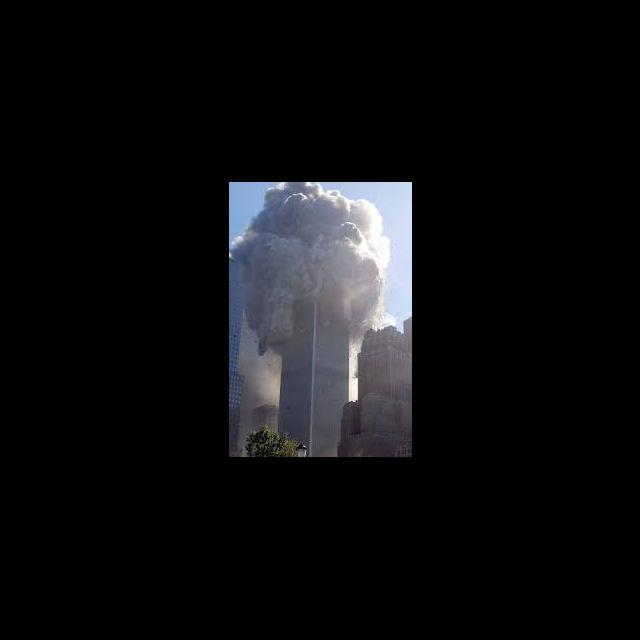Smoke: (234, 184, 398, 340)
